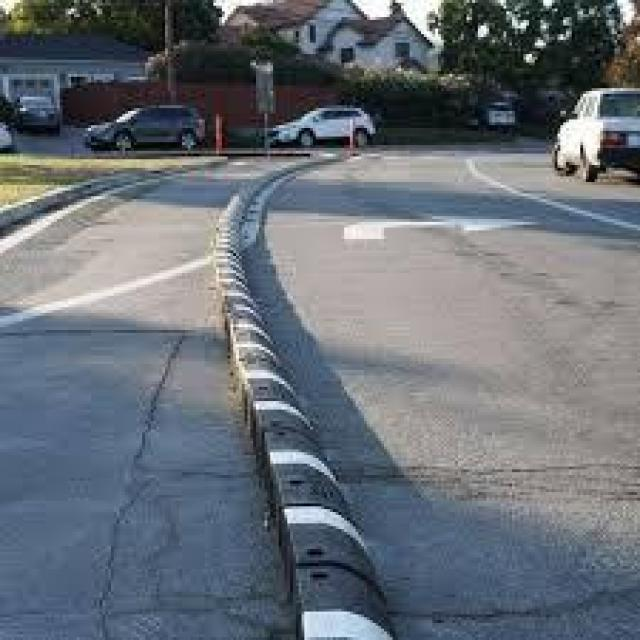curb: (297, 567, 395, 635), (292, 525, 384, 585), (269, 465, 360, 520), (262, 408, 333, 466)
